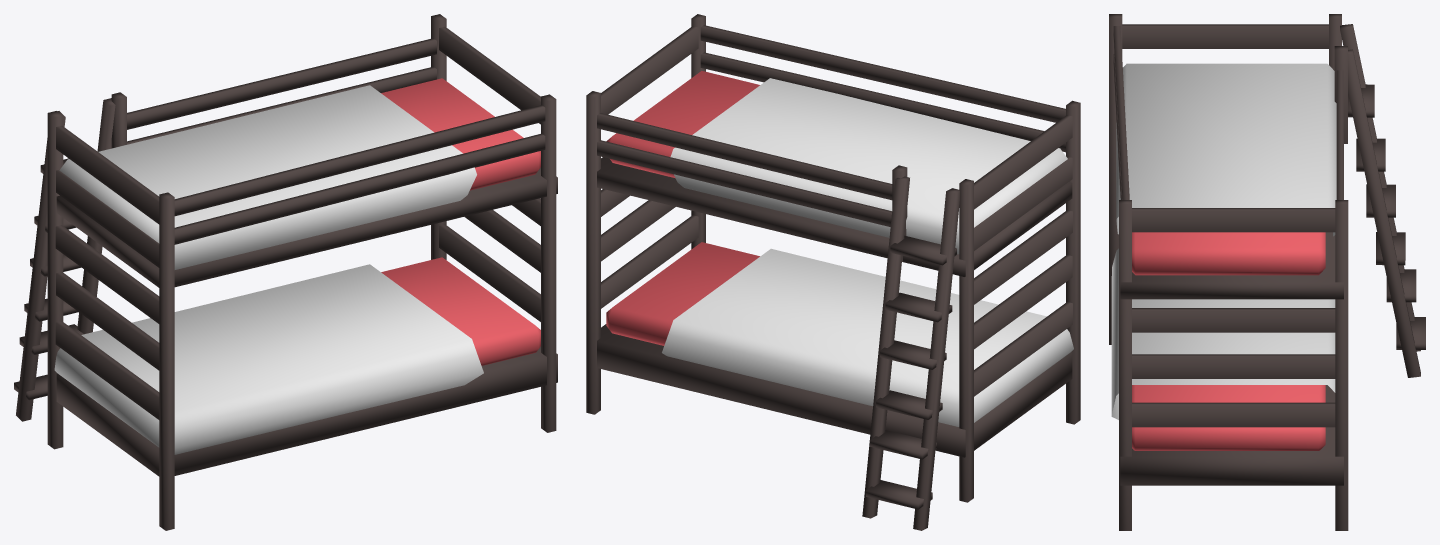
Rendered from SM_LitSuperpose.fbx.
3 renders of one model, left to right at view 1: azimuth 30°, elevation 25°; view 2: azimuth 150°, elevation 25°; view 3: azimuth 270°, elevation 25°, orthographic. The views are drawn at different scales.
Visible parts, largest first — view 1: SM_Lit_Supperpose; view 2: SM_Lit_Supperpose; view 3: SM_Lit_Supperpose.
Part boxes in pixels (box(x1,y1,x2,y2)): SM_Lit_Supperpose: box(14, 14, 557, 530); SM_Lit_Supperpose: box(586, 14, 1080, 530); SM_Lit_Supperpose: box(1109, 14, 1425, 530).
Bounding box in the file's own units: 140 × 200 × 161.
